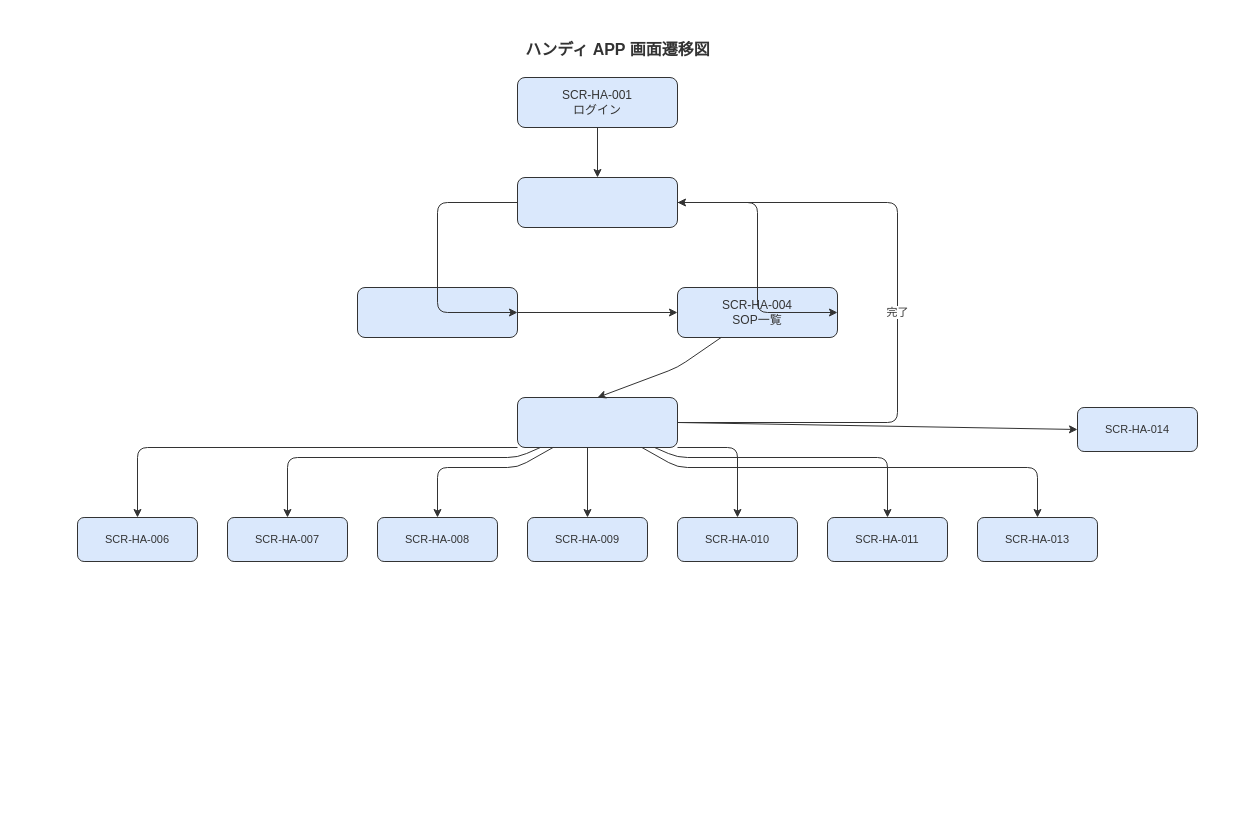
Image size: 1234x834. Some labels were removed from this diagram. Here are the shapes that lost their labels. From the top down, the box of each, then its label:
(516, 176, 678, 228): SCR-HA-002 ホーム
(356, 286, 518, 338): SCR-HA-003 QRスキャン
(516, 396, 678, 448): SCR-HA-005 Step実行
